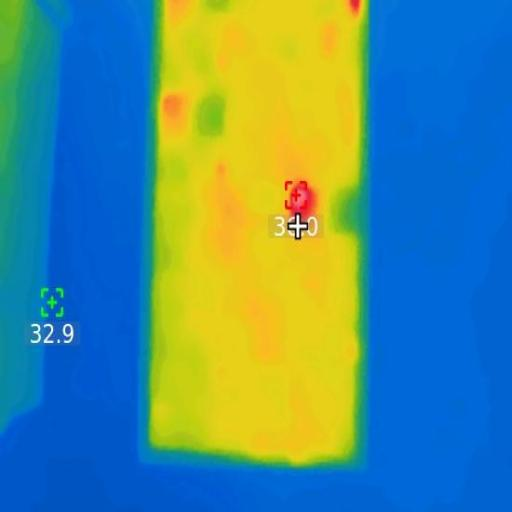hotspot: (293, 182, 312, 224), (349, 0, 360, 17)
